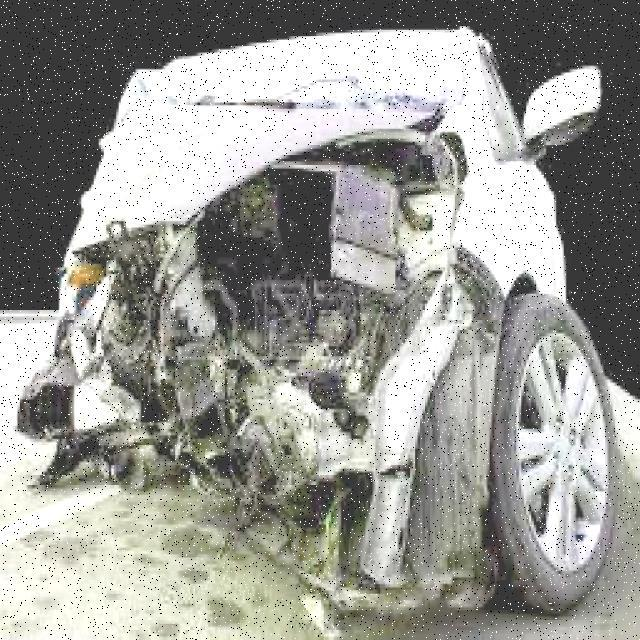car damage: (8, 23, 510, 638)
